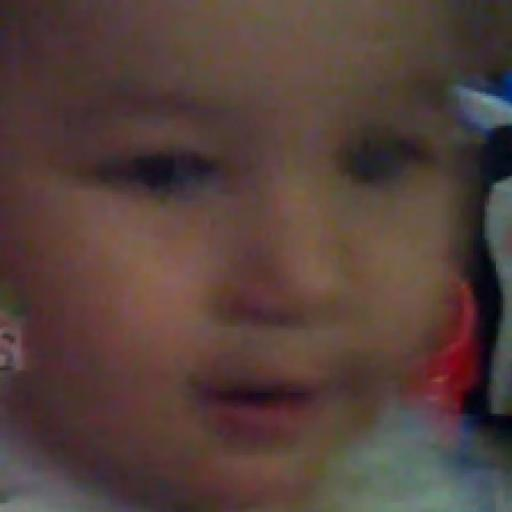Autism: (0, 0, 484, 459)
